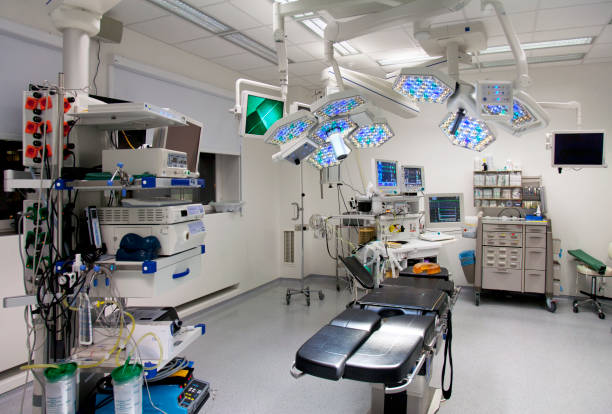bedside_monitor: (237, 89, 286, 140), (549, 128, 608, 169), (421, 191, 466, 233), (372, 157, 399, 194), (400, 166, 425, 195)
breathing_tube: (363, 242, 403, 289)
chair: (572, 241, 612, 319)
door_handle: (293, 201, 302, 222)
electrosurgical_unit: (92, 368, 210, 414)
handle: (172, 268, 191, 280), (493, 270, 509, 274), (528, 250, 544, 253), (529, 235, 544, 238), (528, 273, 542, 276), (528, 227, 541, 230), (495, 227, 505, 229)
iv_pole: (28, 69, 93, 256), (285, 160, 325, 306)
medical_drawer: (474, 217, 558, 312)
operating_bed: (290, 257, 462, 414)
surgical_light: (263, 87, 395, 170), (437, 94, 498, 153), (496, 88, 550, 140), (393, 68, 457, 104), (476, 81, 515, 123)
utility_cart: (334, 225, 362, 292)
